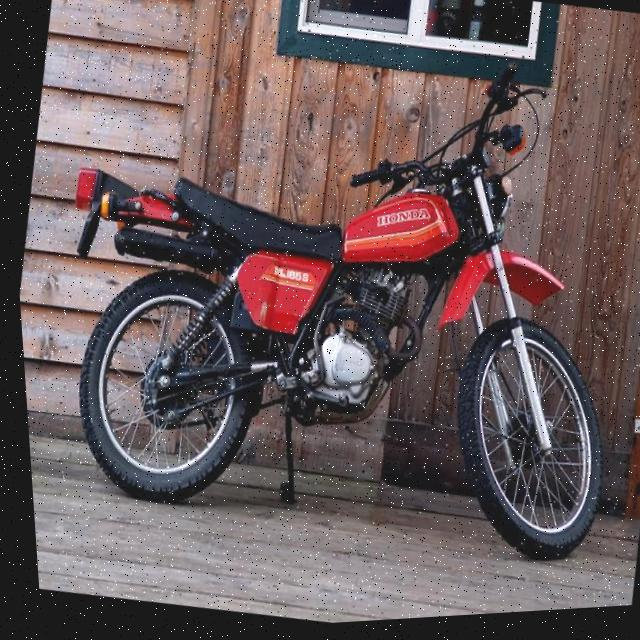motorcycle: (7, 0, 640, 598)
